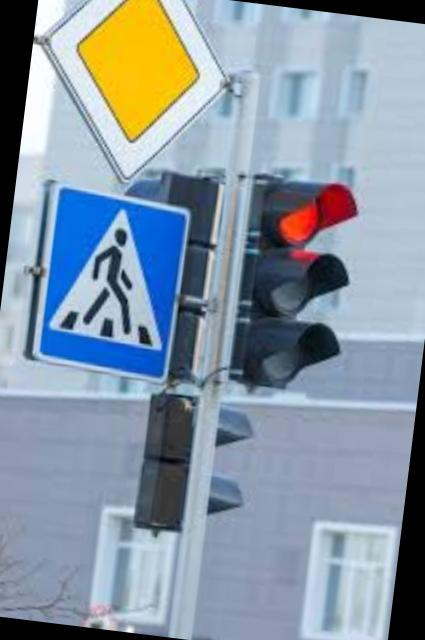crosswalk-sign: (28, 181, 196, 385)
